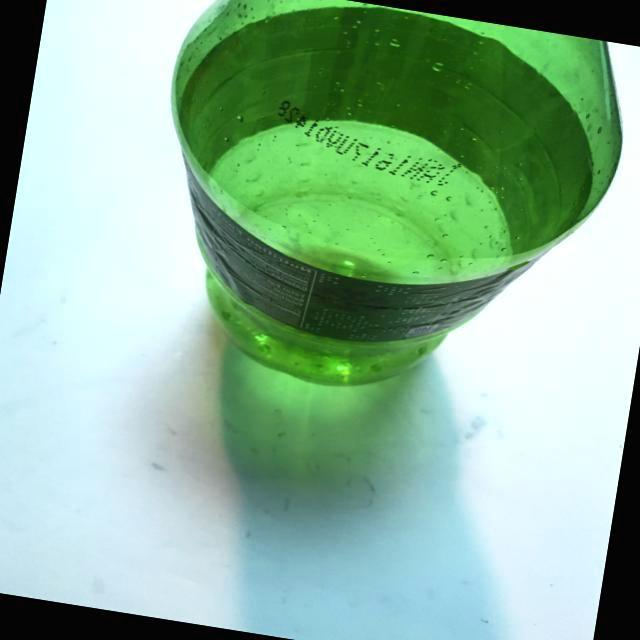plastic: (78, 0, 640, 427)
